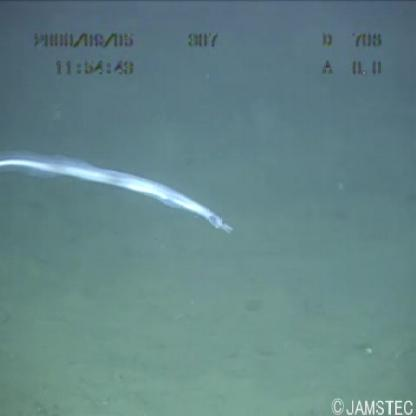Bio: (1, 146, 236, 238)
